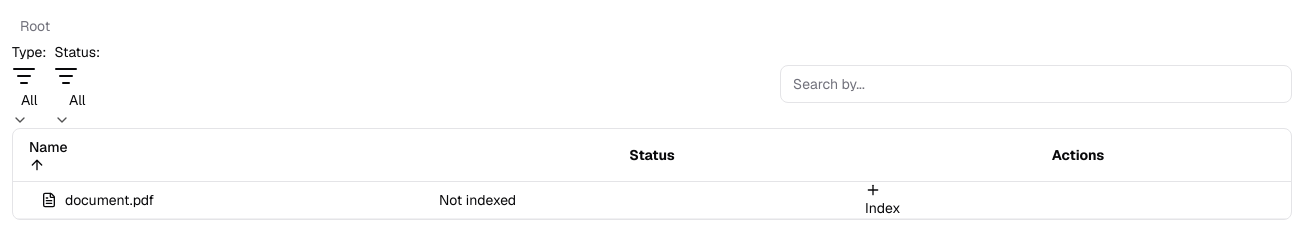
Test: FilePickerGoogleDriveContainer › Index and Remove › when clicking the Index button, should immediately change to status Indexed and show the Remove button, display an in-progress message, then a success message
The width and height of the screenshot is (1304, 237).
Expected: the text "document.pdf" is shown, [65, 190, 154, 210]
Expected: the text "Not indexed" is shown, [439, 191, 516, 209]
Click the button "Index": (883, 200) [865, 182, 900, 218]
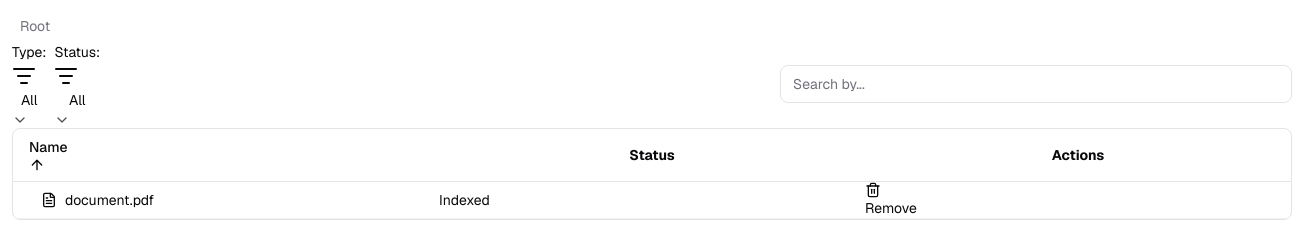
Expected: the text "Indexed" is shown, [439, 191, 490, 209]
Result: the button "Remove" is shown at [865, 182, 917, 218]
